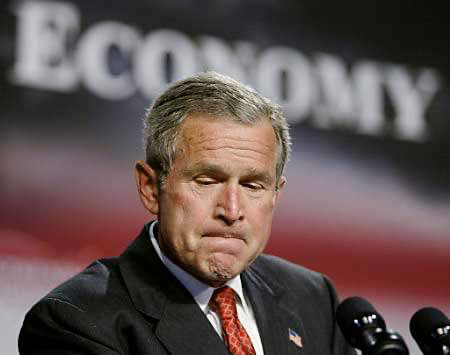Face: (166, 136, 278, 283)
